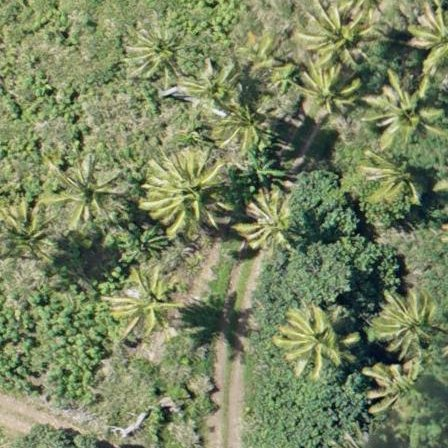palm_tree: (139, 148, 235, 235), (105, 253, 189, 343), (54, 157, 131, 244), (279, 296, 357, 379), (366, 69, 445, 145), (356, 357, 439, 426), (295, 1, 376, 71), (380, 287, 448, 369), (361, 148, 430, 217), (291, 63, 364, 123), (238, 192, 306, 256), (184, 58, 242, 115), (5, 203, 57, 262), (126, 23, 181, 75), (218, 105, 270, 153)
